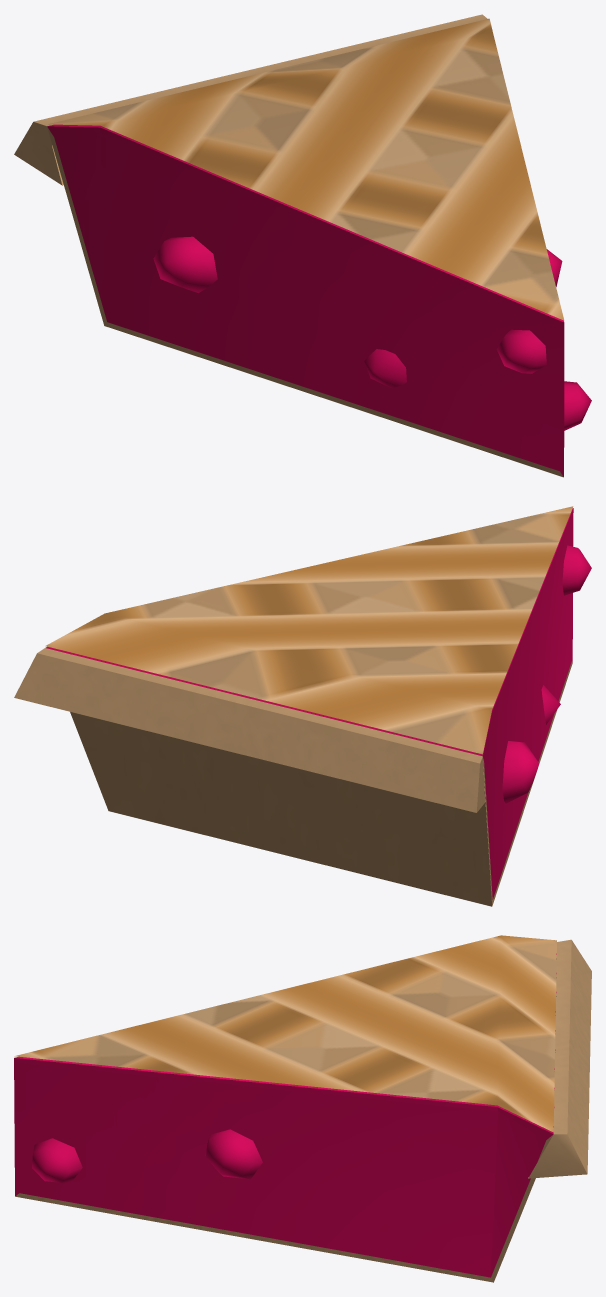
The model's file is Slice_Of_Pie_B_4.FBX.
3 views of the same model, one above another, from view 1: azimuth 30°, elevation 25°; view 2: azimuth 150°, elevation 25°; view 3: azimuth 270°, elevation 25° (orthographic). The views are drawn at different scales.
Visible parts, largest first — view 1: Slice_Of_PieB; view 2: Slice_Of_PieB; view 3: Slice_Of_PieB.
Part boxes in pixels (x1,y1,x2,y2): Slice_Of_PieB: (14, 14, 591, 477); Slice_Of_PieB: (14, 506, 591, 906); Slice_Of_PieB: (14, 935, 591, 1282).
Size of the model in its own units: 44.51 by 18.17 by 53.51.
